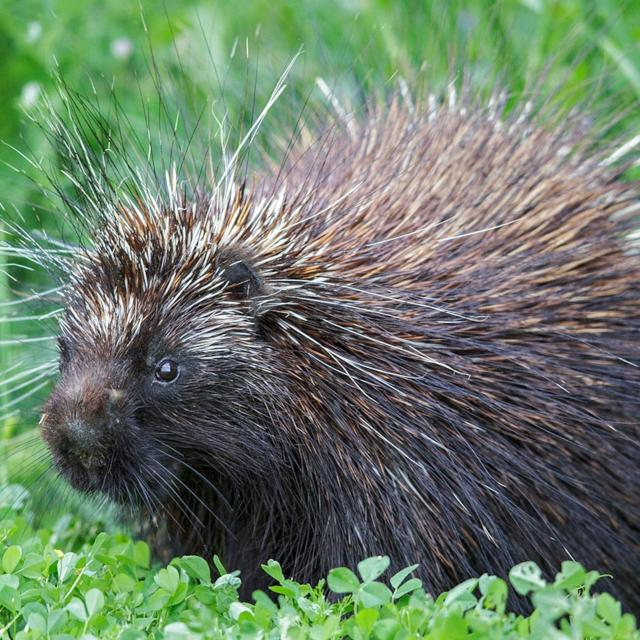Porcupine: (37, 104, 640, 579)
